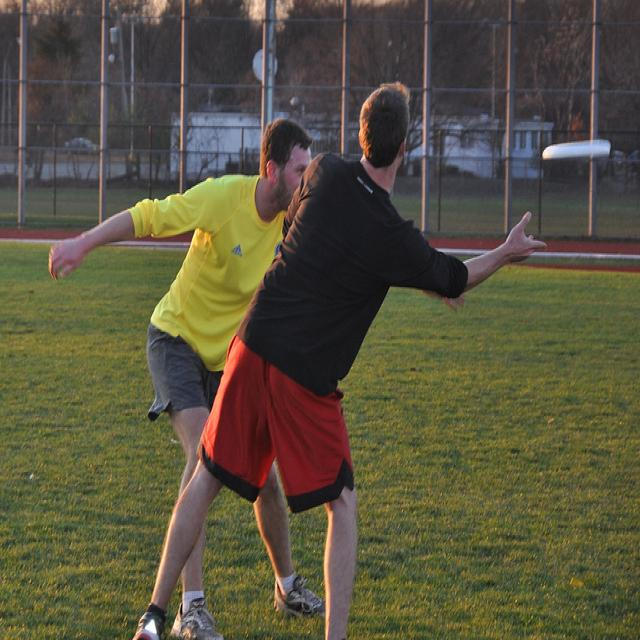Vehicle: (64, 136, 100, 156)
